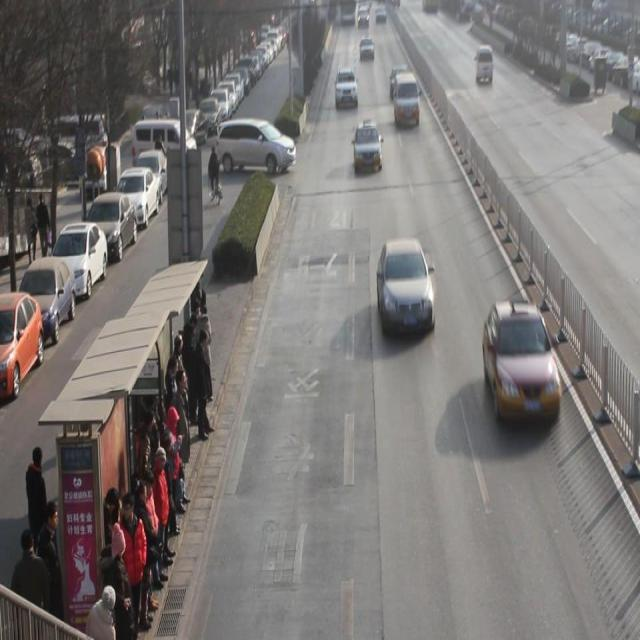car: (485, 298, 564, 427), (378, 237, 438, 335), (354, 120, 384, 172), (336, 66, 360, 108), (392, 71, 413, 108)
truck: (394, 71, 422, 127), (476, 44, 495, 84)
